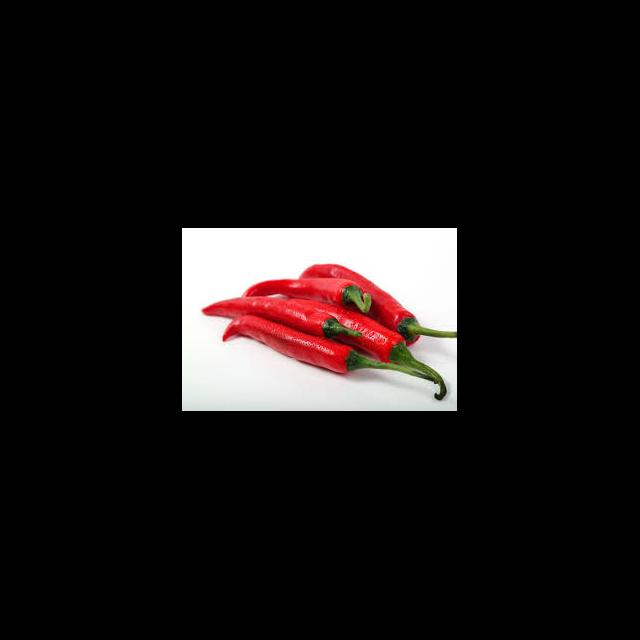chili_pepper: (301, 264, 416, 332), (224, 316, 352, 374), (304, 300, 414, 364), (200, 298, 332, 338), (246, 280, 356, 308)
